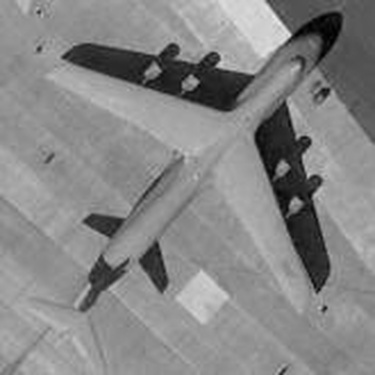airplane: (16, 17, 352, 372)
